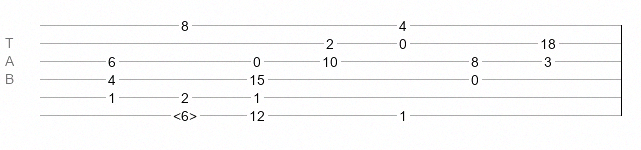0: (253, 54, 261, 64), (399, 36, 407, 46), (471, 72, 479, 82)
1: (108, 90, 116, 100), (253, 90, 261, 100), (399, 108, 407, 118)
10: (322, 54, 338, 64)
12: (249, 108, 265, 118)
15: (249, 72, 265, 82)
18: (540, 36, 556, 46)
2: (181, 90, 189, 100), (326, 36, 334, 46)
3: (544, 54, 552, 64)
4: (108, 72, 116, 82), (399, 18, 407, 28)
6: (108, 54, 116, 64)
8: (181, 18, 189, 28), (471, 54, 479, 64)
harmonic: (173, 108, 197, 118)
